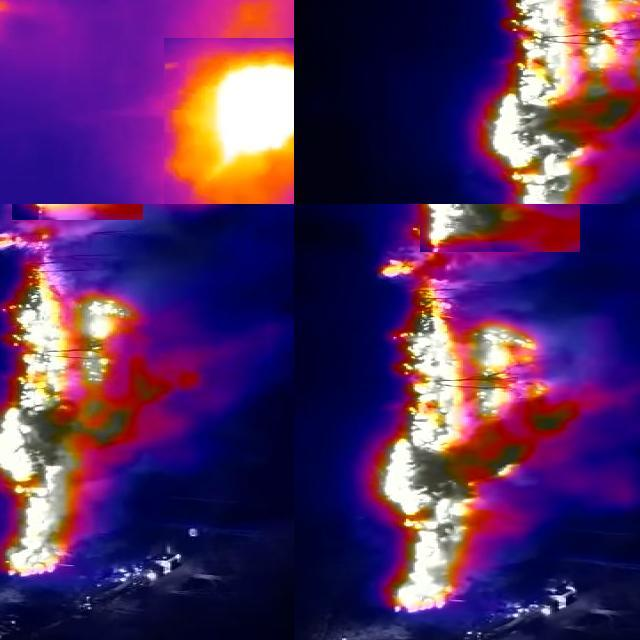fire: (374, 259, 588, 615), (1, 229, 141, 580), (484, 1, 640, 205), (164, 39, 295, 205), (420, 205, 580, 253)
